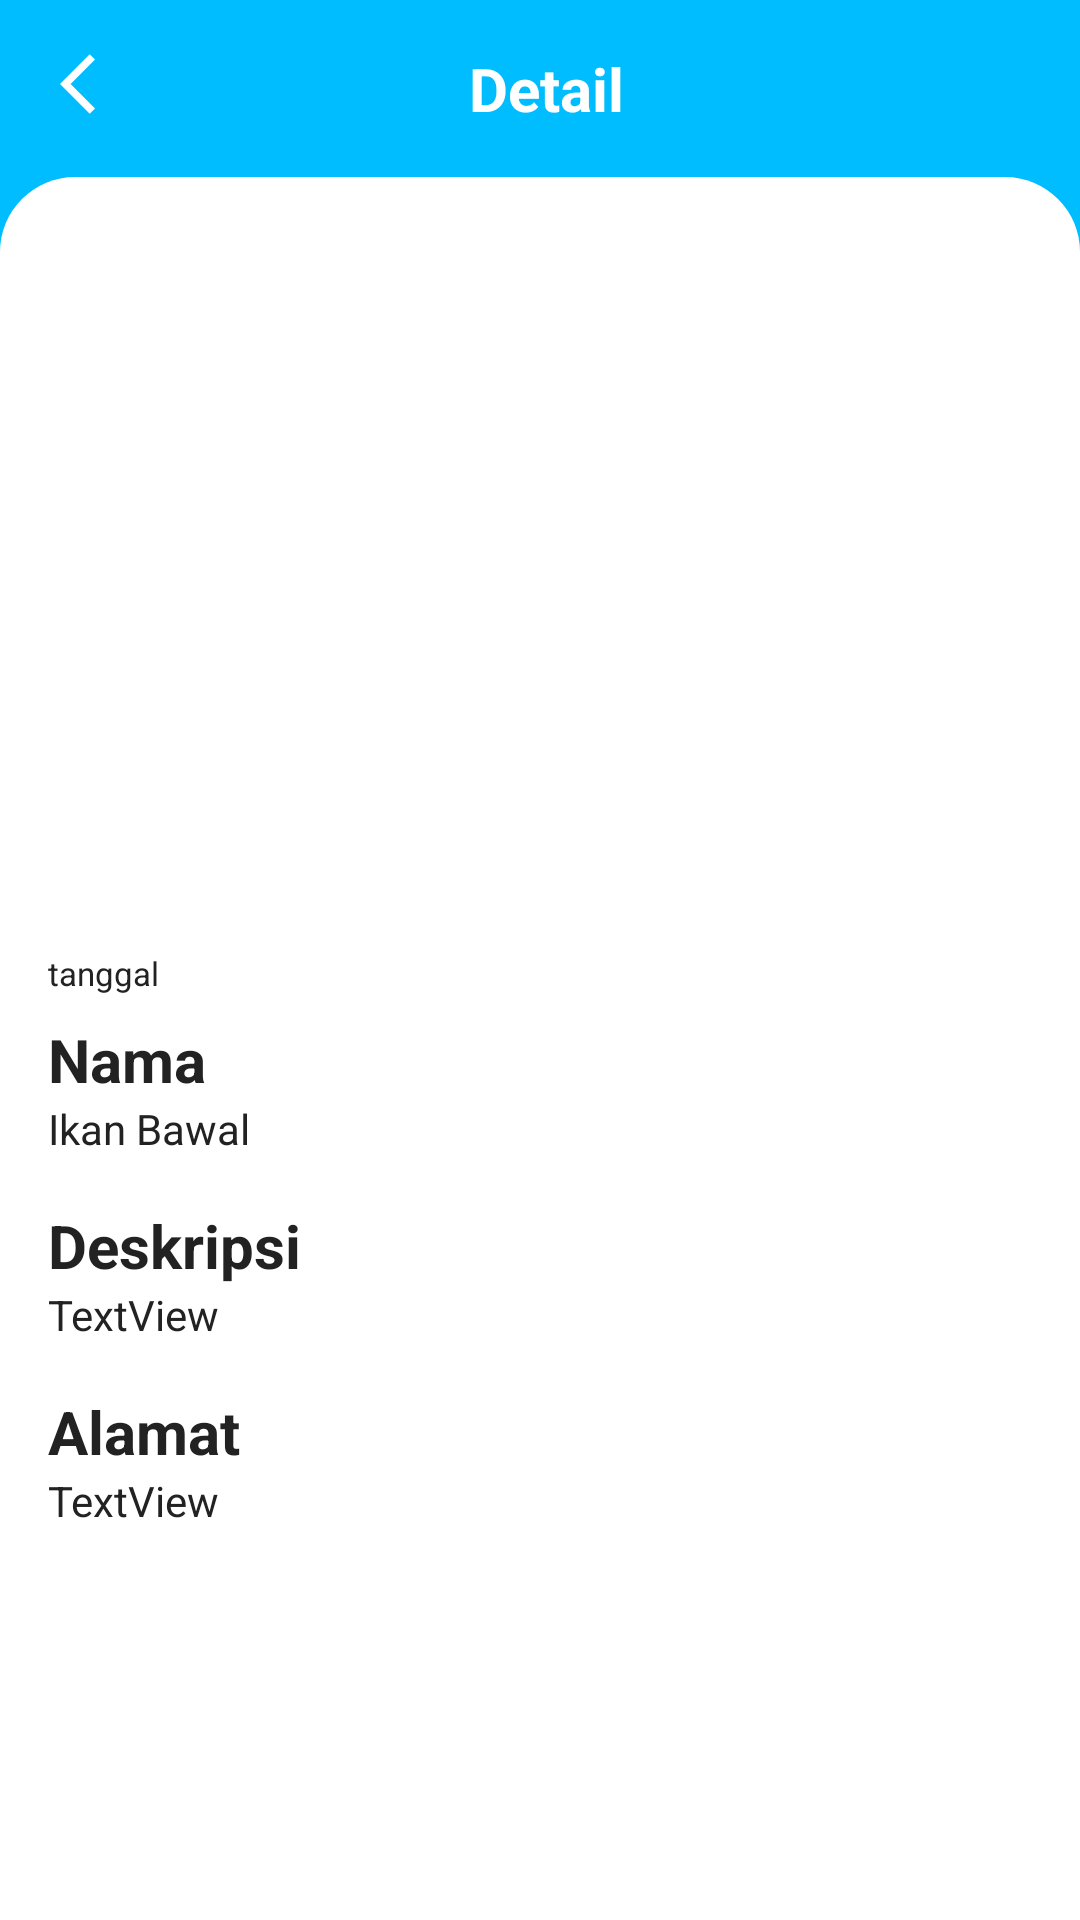

Screen size 1080px×1920px. Icon name, then its box in pixels as [x1,y1,x2,y2]:
back: [60,54,95,114]
